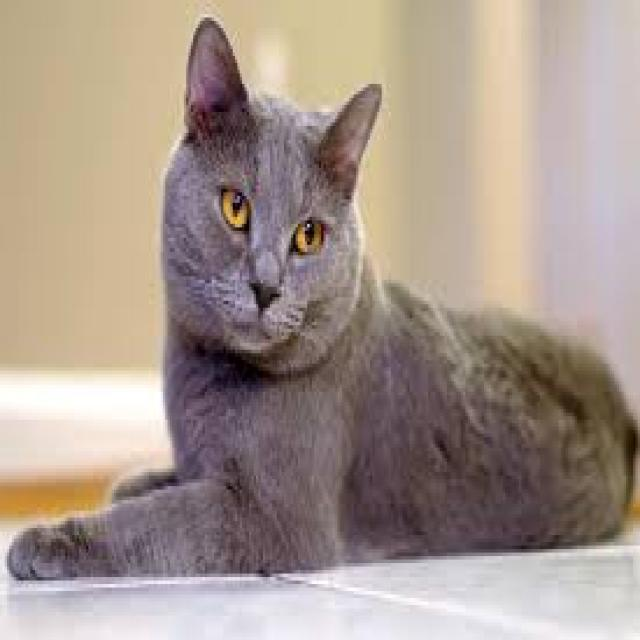Cat: (5, 14, 640, 588)
